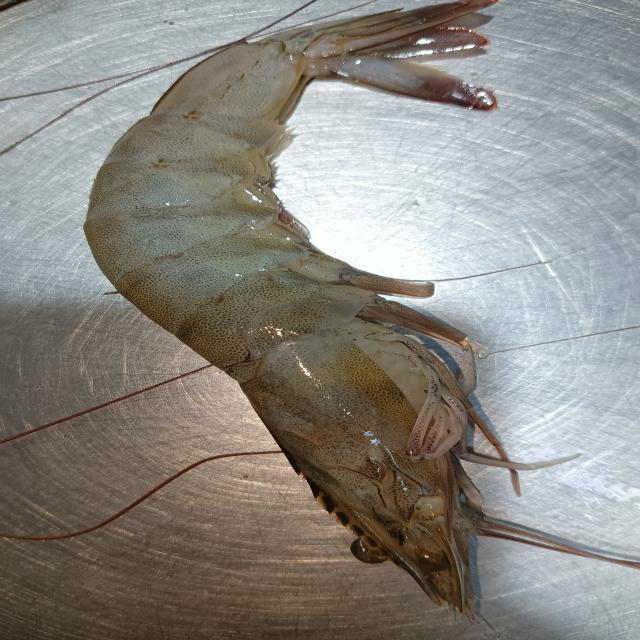shrimp: (84, 0, 615, 616)
